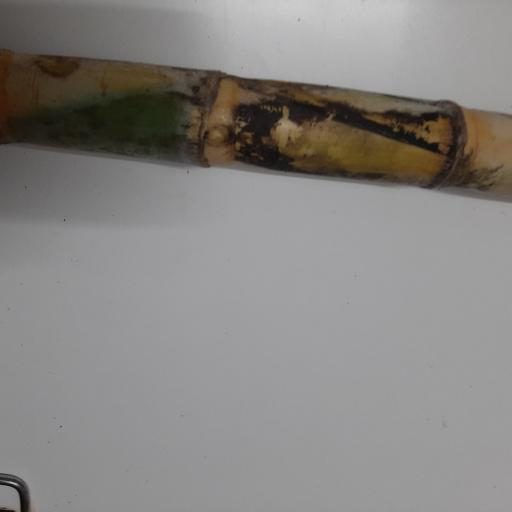Bud: (198, 125, 234, 149)
